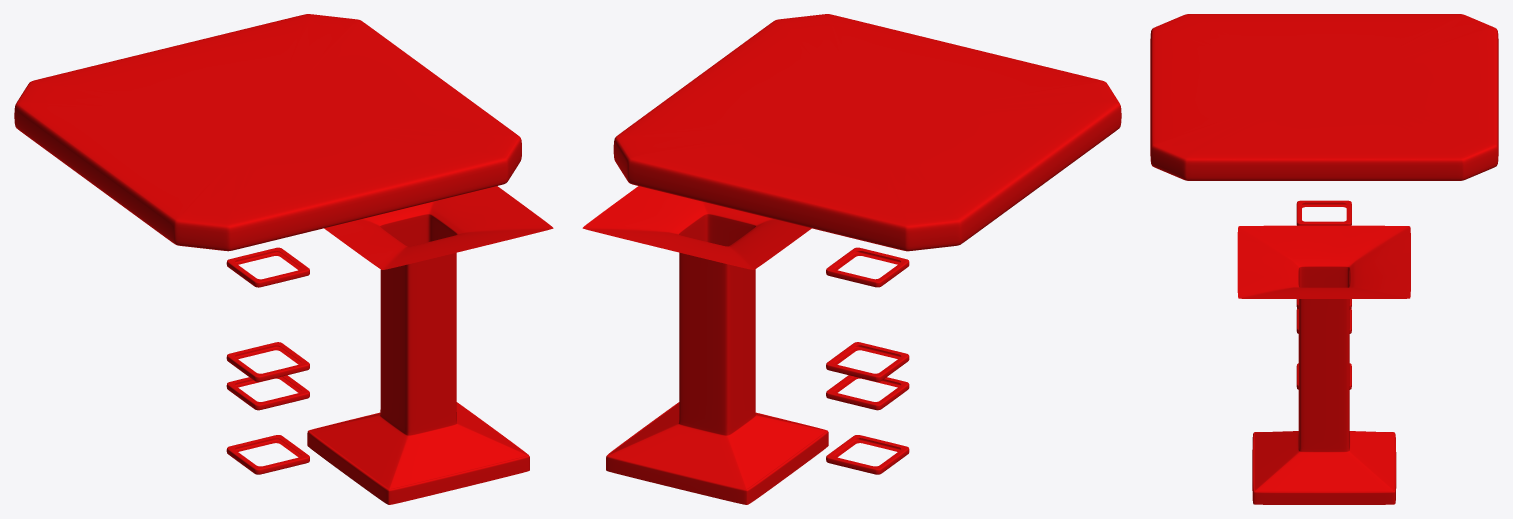
Rendered from Tisch_HP.fbx.
3 views of the same model, side by side, from view 1: azimuth 30°, elevation 25°; view 2: azimuth 150°, elevation 25°; view 3: azimuth 270°, elevation 25° (orthographic). The views are drawn at different scales.
Visible parts, largest first — view 1: table_top, Table_Leg, deco5, deco3, deco2, deco4; view 2: table_top, Table_Leg, deco2, deco5, deco3, deco4; view 3: table_top, Table_Leg, deco2.
Part boxes in pixels (bbox=[...]): table_top: bbox=[14, 14, 521, 251]; Table_Leg: bbox=[307, 186, 553, 504]; deco5: bbox=[226, 342, 309, 381]; deco3: bbox=[226, 435, 309, 474]; deco2: bbox=[226, 247, 309, 287]; deco4: bbox=[226, 375, 309, 410]; table_top: bbox=[613, 14, 1121, 251]; Table_Leg: bbox=[582, 186, 828, 504]; deco2: bbox=[826, 247, 909, 287]; deco5: bbox=[826, 342, 909, 381]; deco3: bbox=[826, 435, 909, 474]; deco4: bbox=[826, 375, 909, 410]; table_top: bbox=[1150, 14, 1498, 180]; Table_Leg: bbox=[1237, 225, 1410, 504]; deco2: bbox=[1296, 200, 1351, 225].
Size of the model in its own units: 127 by 107 by 111.
